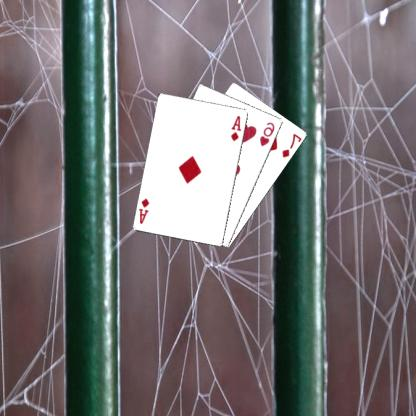6H: (259, 119, 278, 148)
7D: (282, 130, 304, 158)
AD: (230, 113, 245, 142), (139, 196, 152, 224)
